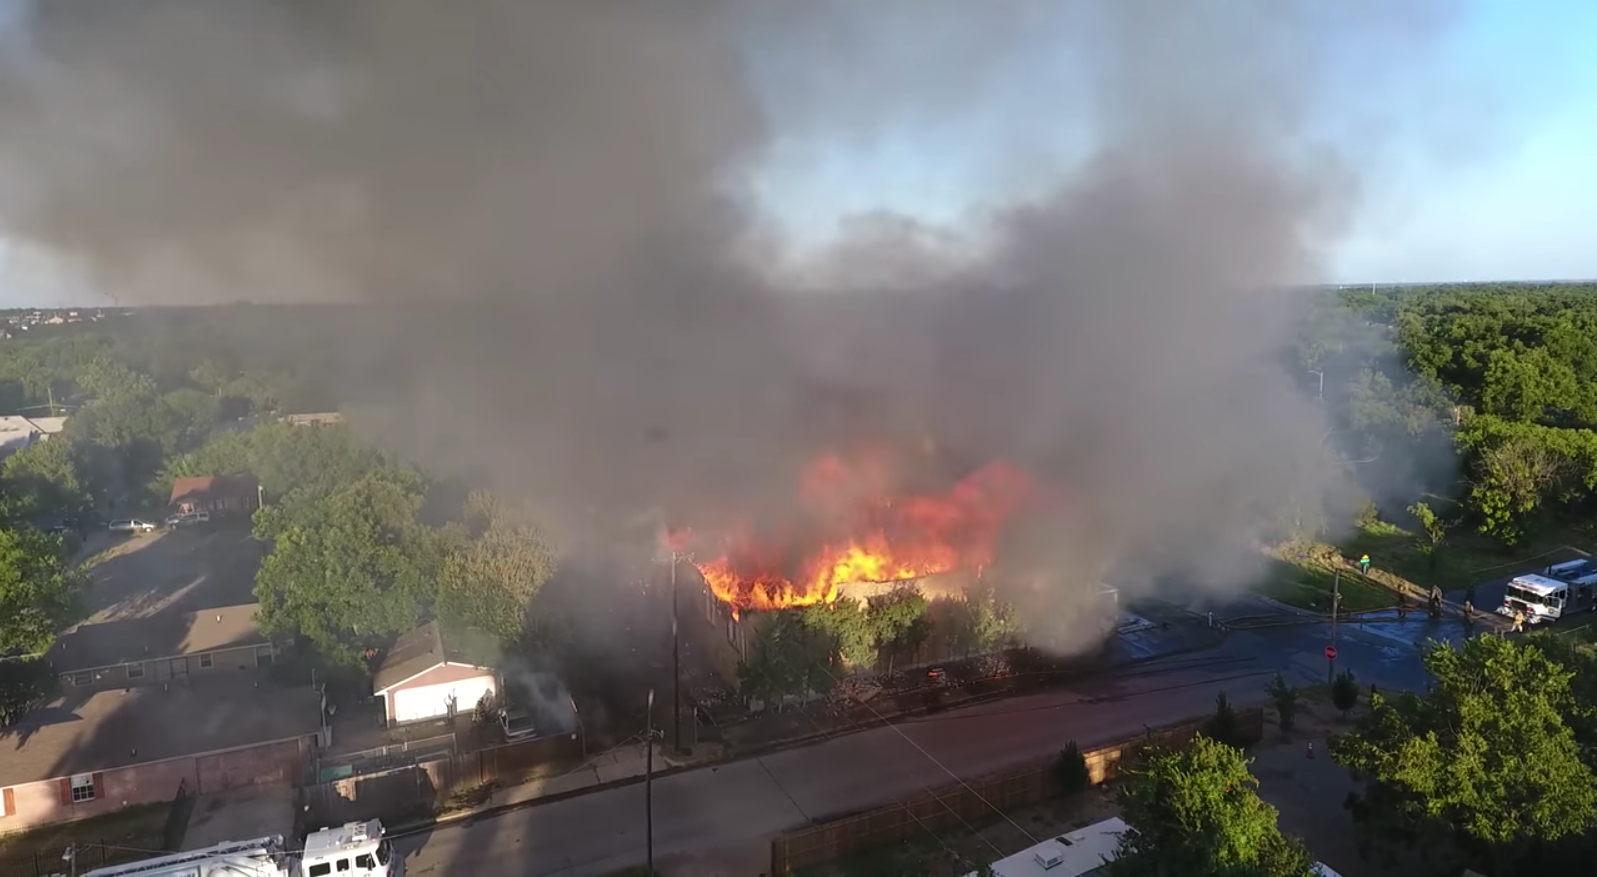fire: (687, 451, 1030, 629)
